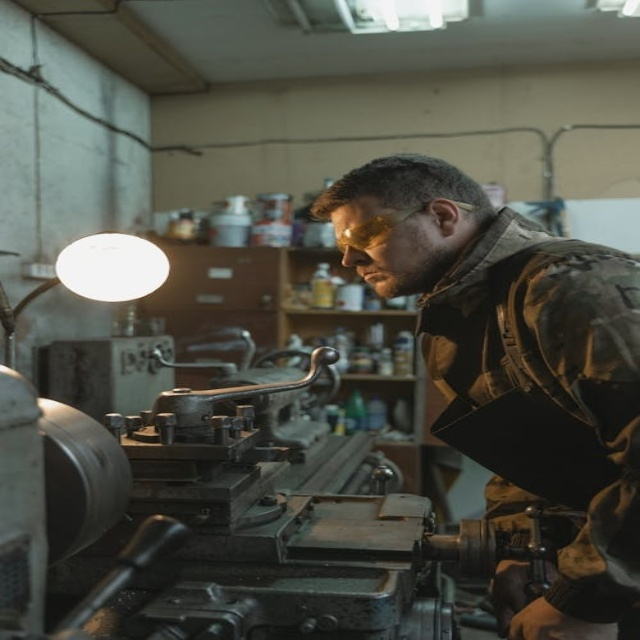Gafas: (336, 203, 472, 254)
Sin_guantes: (486, 558, 563, 638)
Sin_mascara: (346, 259, 421, 296)
